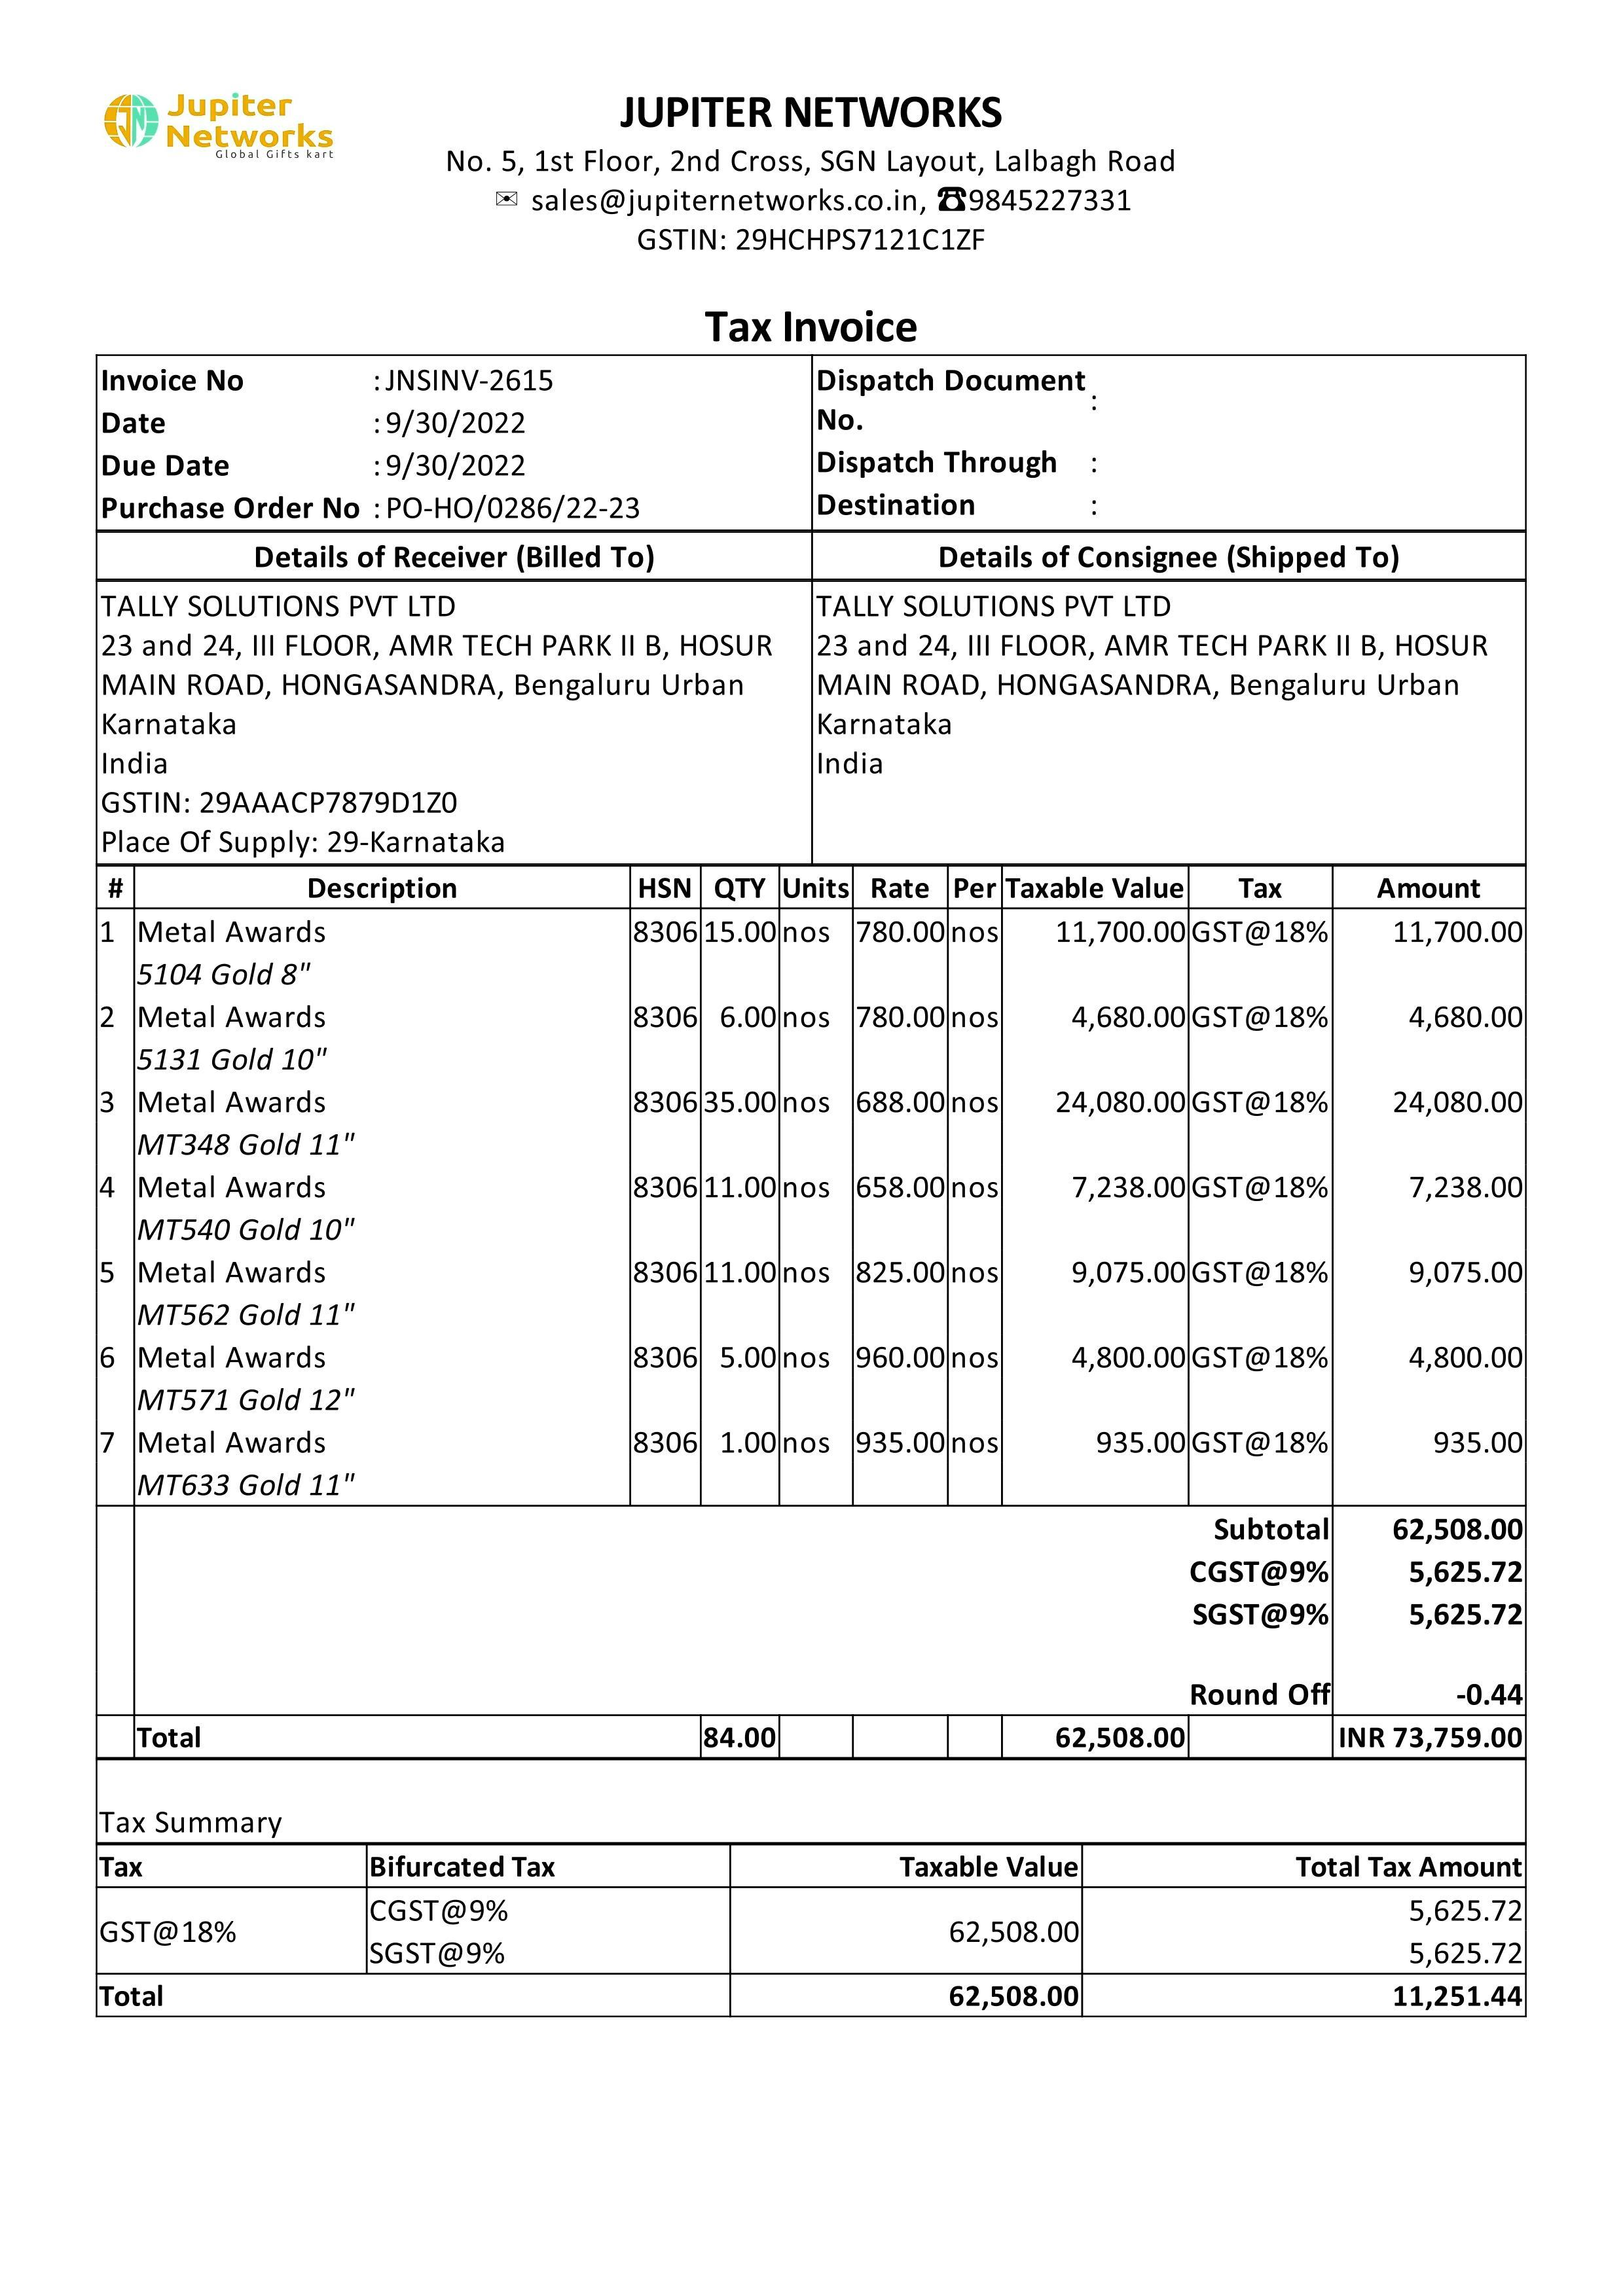InvoiceDate: (378, 405, 527, 442)
InvoiceNumber: (381, 362, 559, 402)
TotalAmount: (1331, 1713, 1526, 1757)
